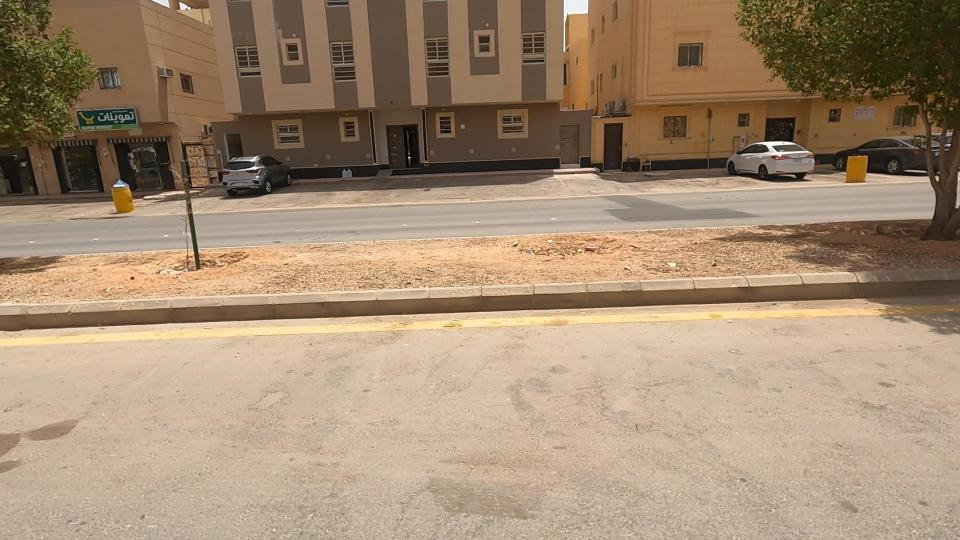CLUTTER_SIDEWALK: (177, 208, 607, 313), (456, 209, 873, 310), (0, 212, 239, 336)
GARBAGE: (310, 149, 380, 208)
